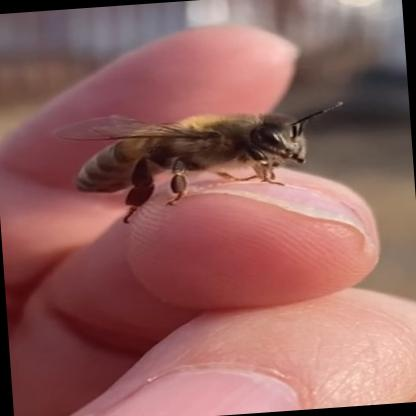bee: (12, 58, 397, 242)
